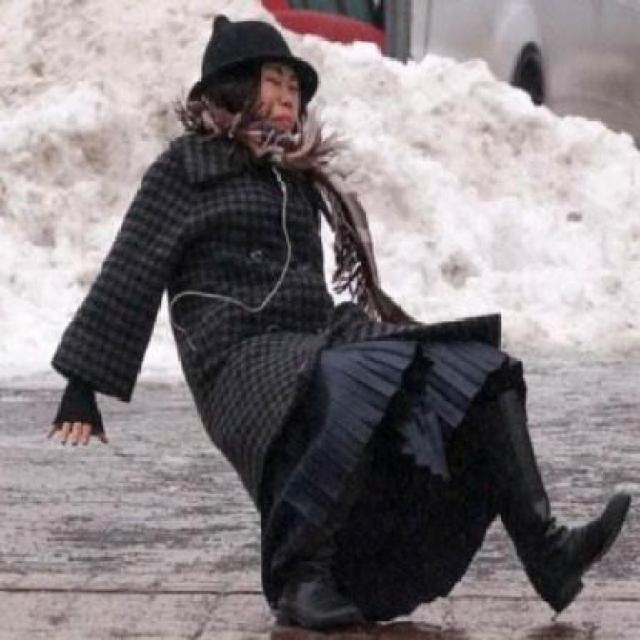fall: (43, 3, 631, 639)
